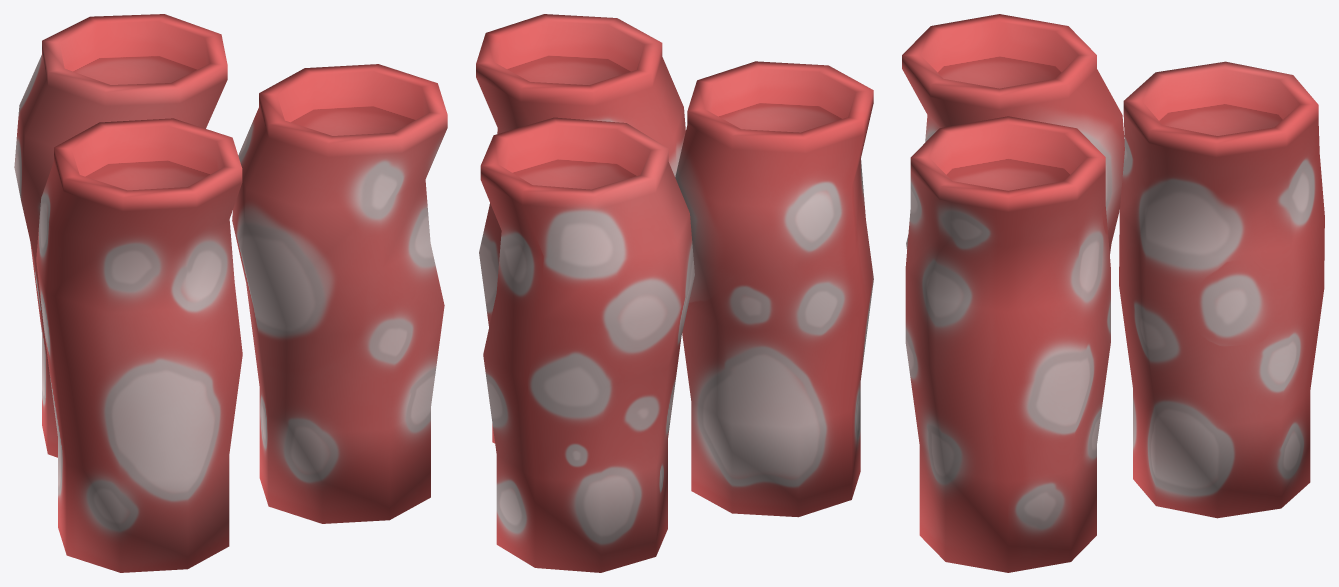
File: bendy_coral.fbx
3 renders of one model, left to right at view 1: azimuth 30°, elevation 25°; view 2: azimuth 150°, elevation 25°; view 3: azimuth 270°, elevation 25°, orthographic.
Parts seen in each view (by area): view 1: Cylinder; view 2: Cylinder; view 3: Cylinder.
Boxes of the visible parts, bbox=[...] form: Cylinder: bbox=[14, 14, 447, 572]; Cylinder: bbox=[476, 14, 873, 572]; Cylinder: bbox=[902, 14, 1324, 572].
Size of the model in its own units: 209 by 200 by 200.
